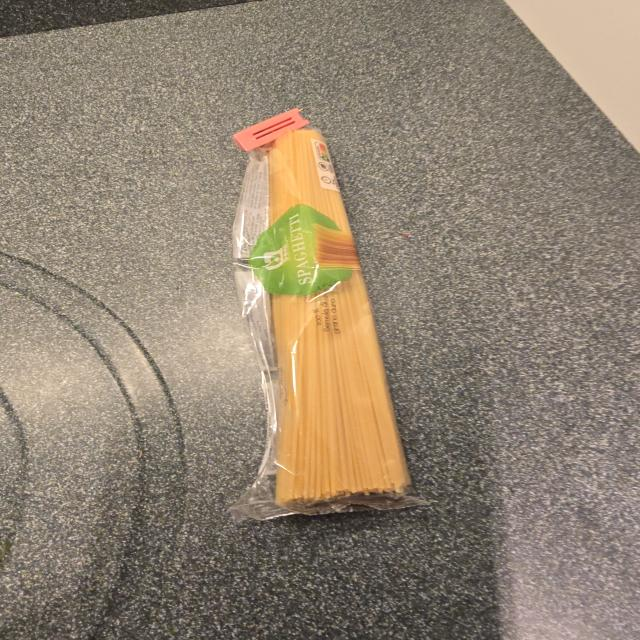Pasta: (231, 108, 429, 521)
